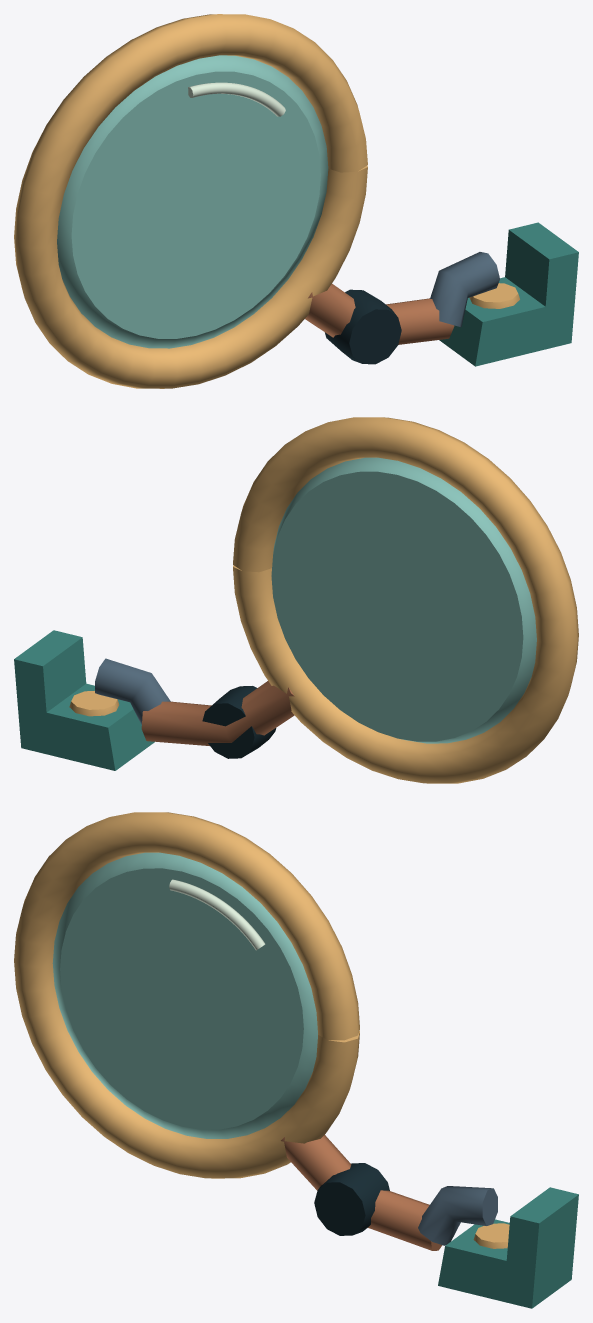
3 renders of one model, top to bottom at view 1: azimuth 30°, elevation 25°; view 2: azimuth 150°, elevation 25°; view 3: azimuth 330°, elevation 25°, orthographic. The views are drawn at different scales.
Parts seen in each view (by area): view 1: PR126 enamel and hardware; view 2: PR126 enamel and hardware; view 3: PR126 enamel and hardware.
Boxes of the visible parts, <box> form: PR126 enamel and hardware: <box>14,14,578,388</box>; PR126 enamel and hardware: <box>14,417,578,783</box>; PR126 enamel and hardware: <box>14,812,578,1308</box>.
Bounding box in the file's own units: 0.29 × 0.2039 × 0.0374.
